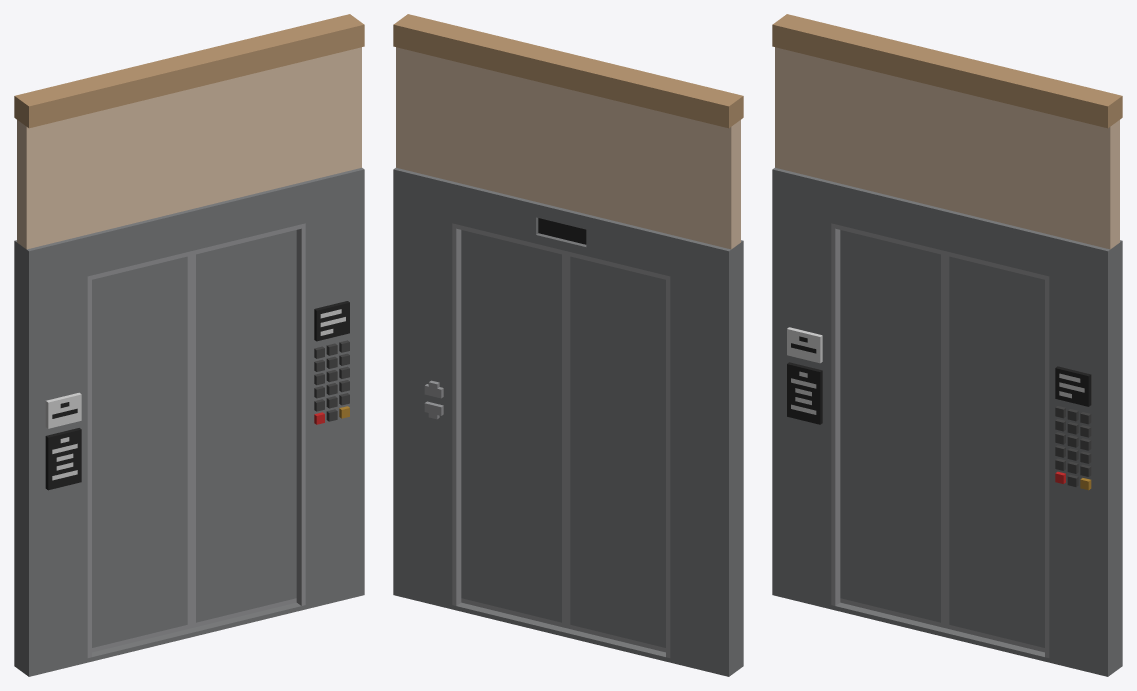
Rendered from wall_02_M_elevator.dae.
3 renders of one model, left to right at view 1: azimuth 30°, elevation 25°; view 2: azimuth 150°, elevation 25°; view 3: azimuth 330°, elevation 25°, orthographic.
Parts seen in each view (by area): view 1: Untitled.002, Untitled, Untitled.001; view 2: Untitled.002, Untitled, Untitled.001; view 3: Untitled.002, Untitled.001, Untitled.
Part boxes in pixels (x1,y1,x2,y2): Untitled.002: [14, 14, 364, 676]; Untitled: [192, 230, 296, 627]; Untitled.001: [92, 255, 191, 652]; Untitled.002: [393, 14, 743, 676]; Untitled: [461, 230, 565, 627]; Untitled.001: [566, 255, 665, 652]; Untitled.002: [772, 14, 1122, 676]; Untitled.001: [840, 230, 944, 627]; Untitled: [945, 255, 1044, 652].
Bounding box in the file's own units: 2.4 × 0.24 × 3.9.
Materials: 3 (3 with a texture image).
